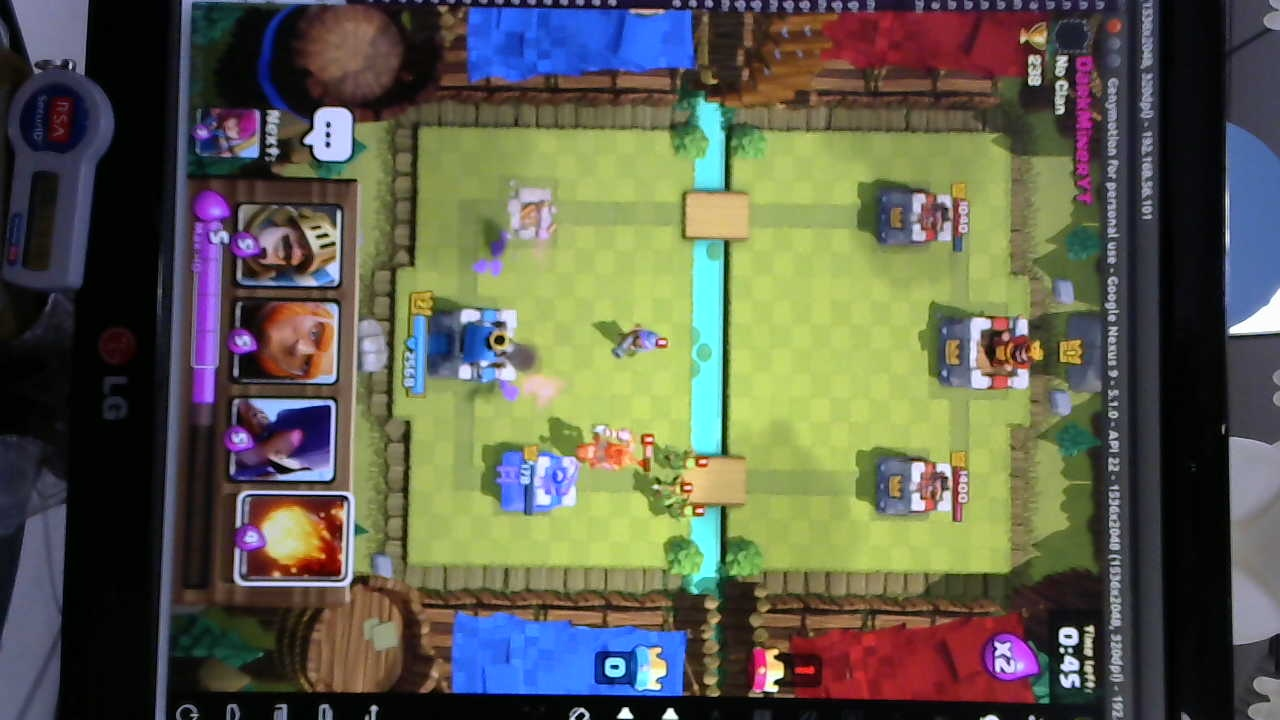arena: (497, 447, 579, 518)
darena: (503, 182, 554, 245)
earena: (872, 185, 957, 250), (873, 453, 953, 521)
eking: (937, 313, 1039, 393)
king: (431, 303, 522, 387)
musketeer: (610, 323, 659, 361)
prince: (576, 428, 638, 470)
speargoblins: (653, 451, 710, 519)
